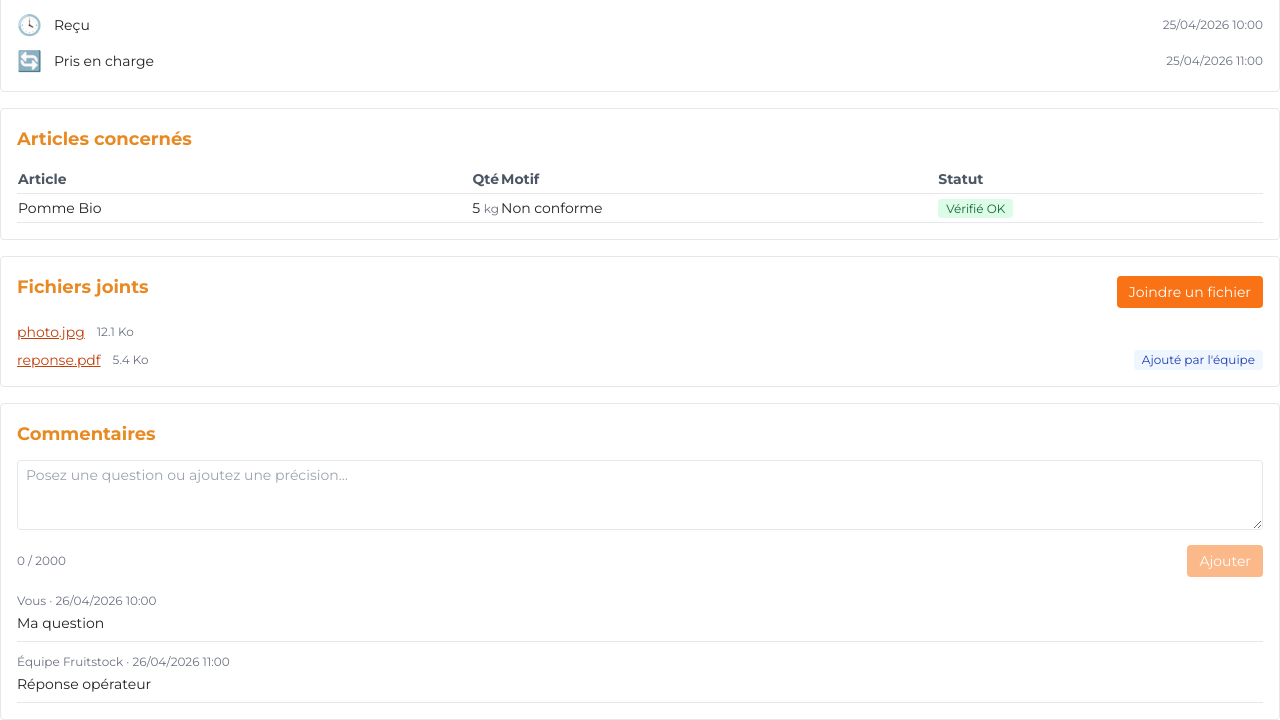
Scenario: MemberSavDetailView (Story 6.3) › AC#7 si POST 4xx → retire l'optimistic + affiche erreur
The image size is (1280, 720).
(page scrolled)
Step 1. Type "spam" into the text box with test id "comment-body-input" → (640, 495), box [17,460,1263,530]
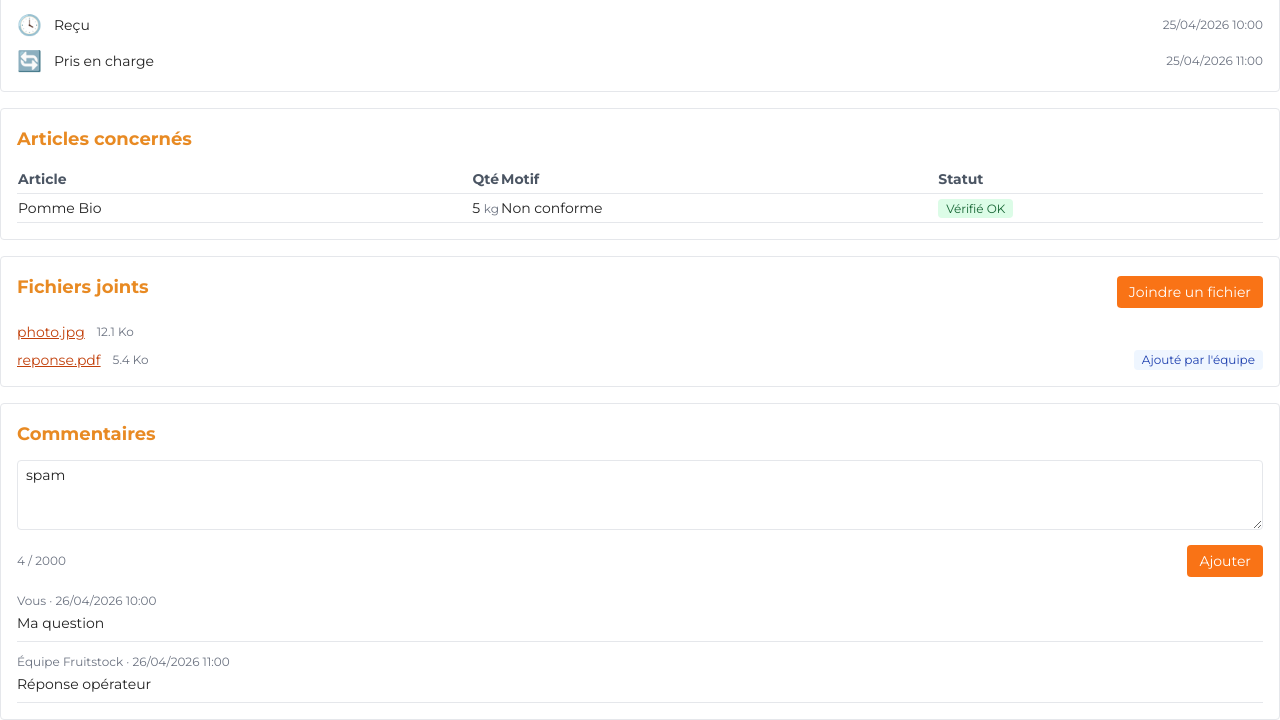
Step 2. Submit the form with test id "comment-form", box [17,460,1263,577]
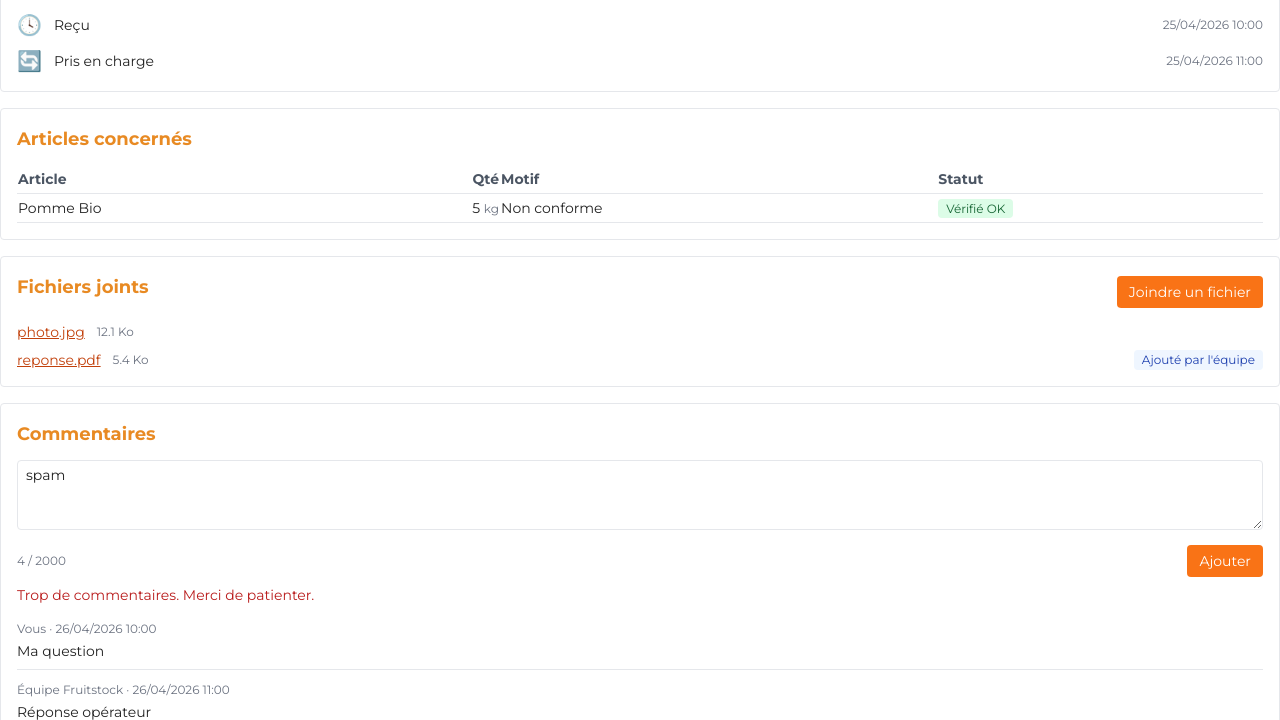
Now the message "Trop de commentaires. Merci de patienter." is shown, box [17,586,314,604]
